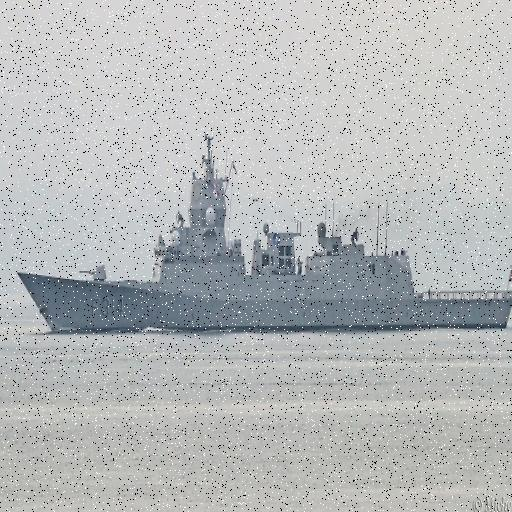Fragata: (17, 125, 512, 340)
